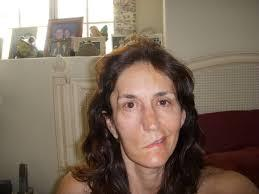normalEye: (118, 90, 176, 115)
strokeMouthSevere: (138, 130, 171, 154)
